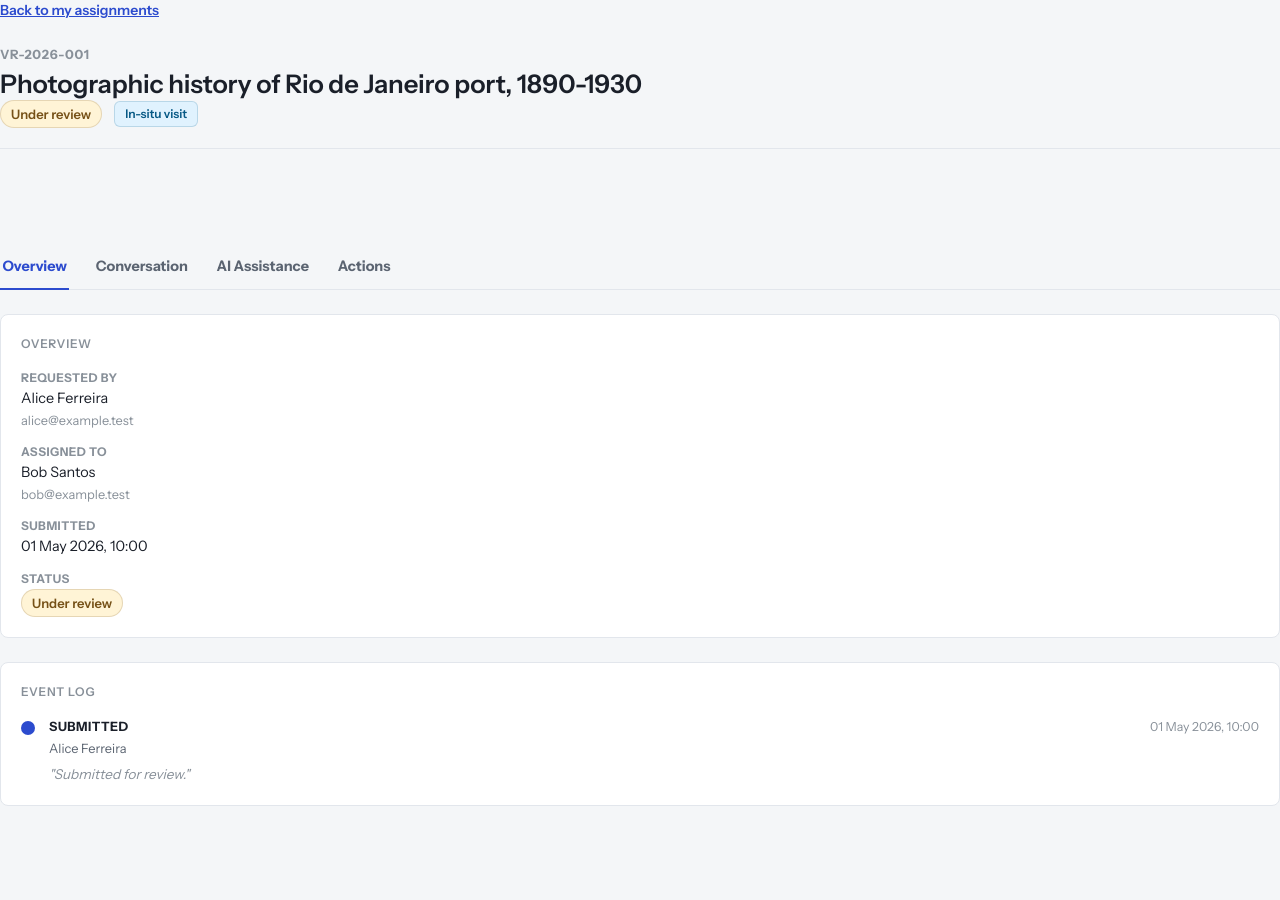
Test case: ProposalMyDetailPageComponent › switches between overview and conversation panels
Click the tab "Conversation" at (142, 267), box [93,245,190,290]
(page scrolled)
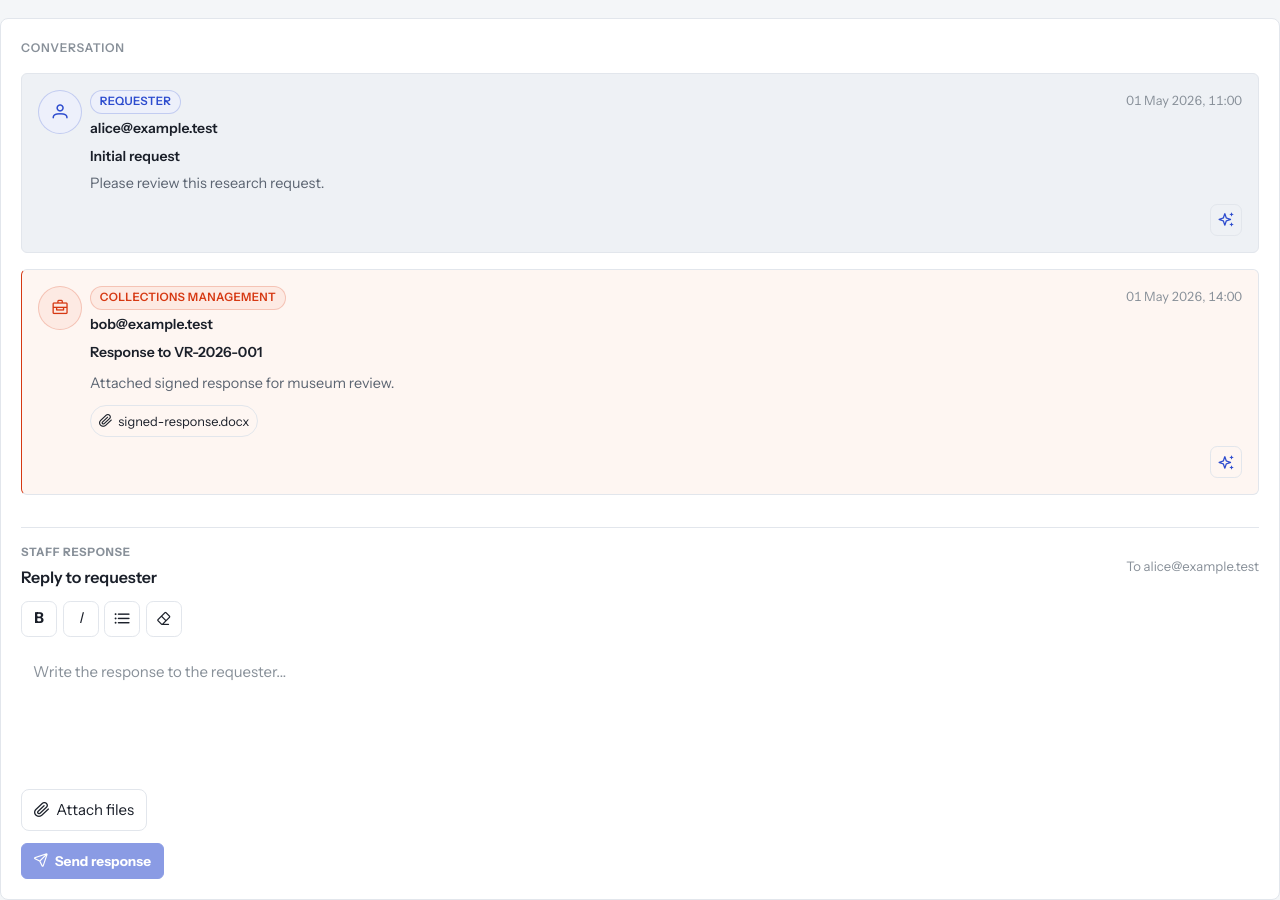
Now the panel with id "conversation-panel" is shown
Now the text "Initial request" is shown, box [90,147,180,165]
Now the text "signed-response.docx" is shown, box [99,412,249,431]
